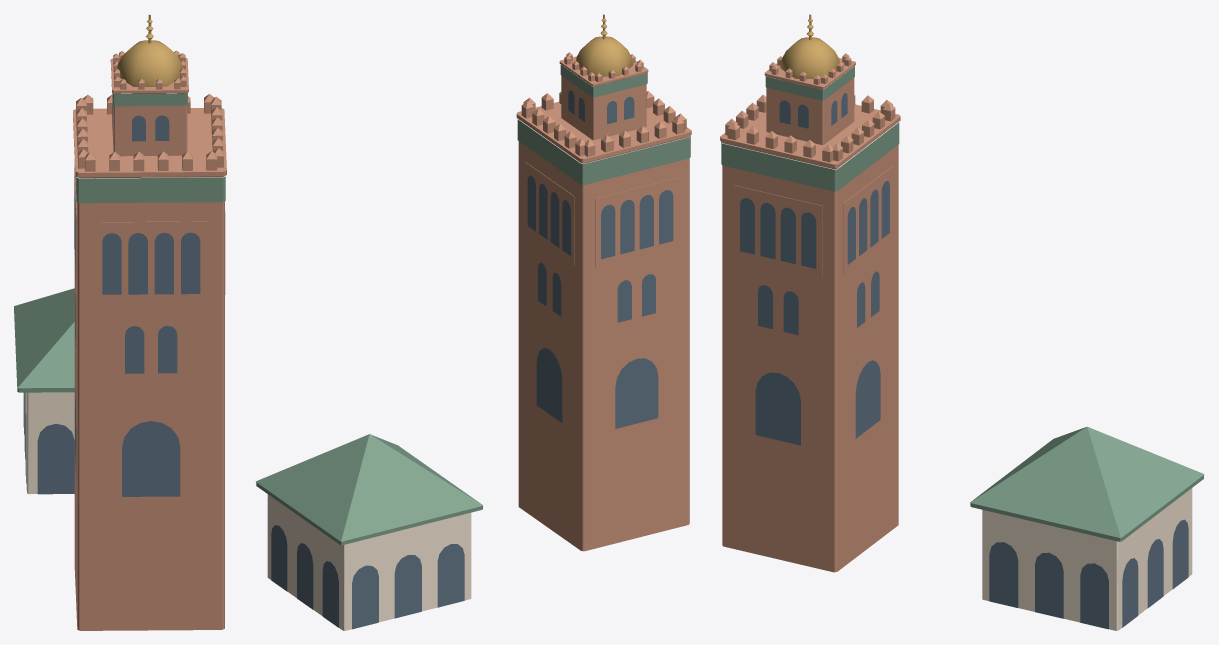
3 renders of one model, left to right at view 1: azimuth 30°, elevation 25°; view 2: azimuth 150°, elevation 25°; view 3: azimuth 270°, elevation 25°, orthographic. The views are drawn at different scales.
Visible parts, largest first — view 1: morocco-pavilion-minaret-walt-disney-world; view 2: morocco-pavilion-minaret-walt-disney-world; view 3: morocco-pavilion-minaret-walt-disney-world.
Boxes of the visible parts, <box> form: morocco-pavilion-minaret-walt-disney-world: <box>14,15,226,630</box>; morocco-pavilion-minaret-walt-disney-world: <box>255,14,691,630</box>; morocco-pavilion-minaret-walt-disney-world: <box>720,14,1204,630</box>.
Bounding box in the file's own units: 19.05 × 33.2 × 28.01.
